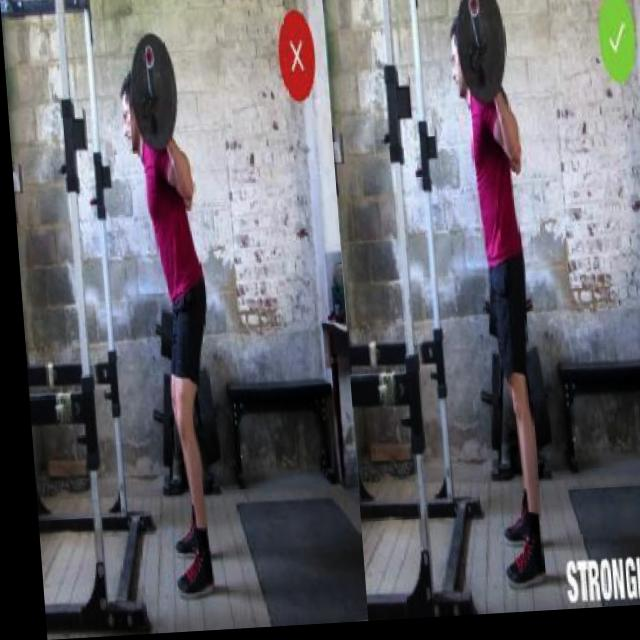barbell: (125, 33, 183, 158), (448, 1, 512, 112)
